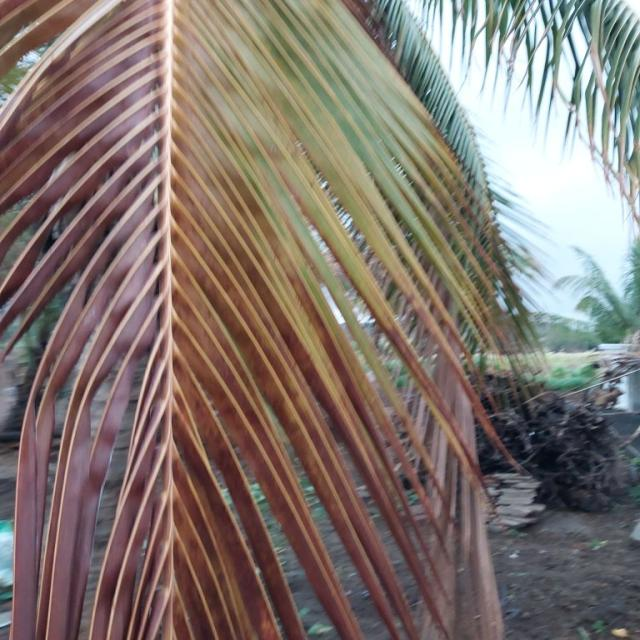gray leaf spot: (8, 3, 548, 638)
